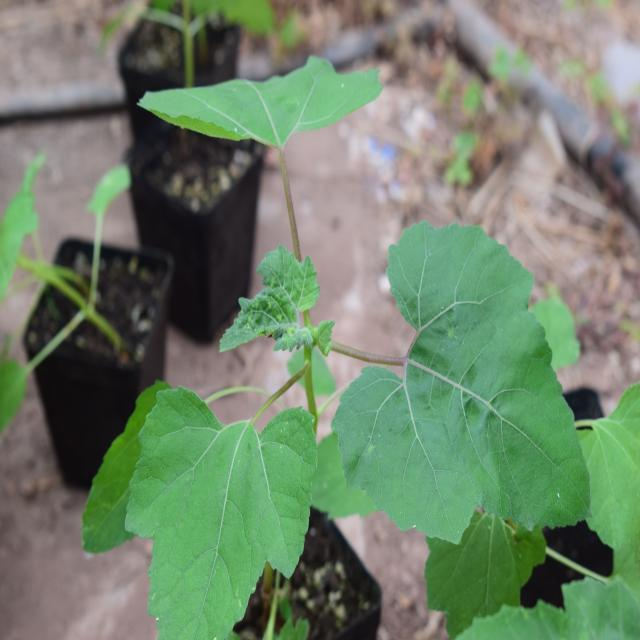cocklebur: (104, 33, 599, 613)
